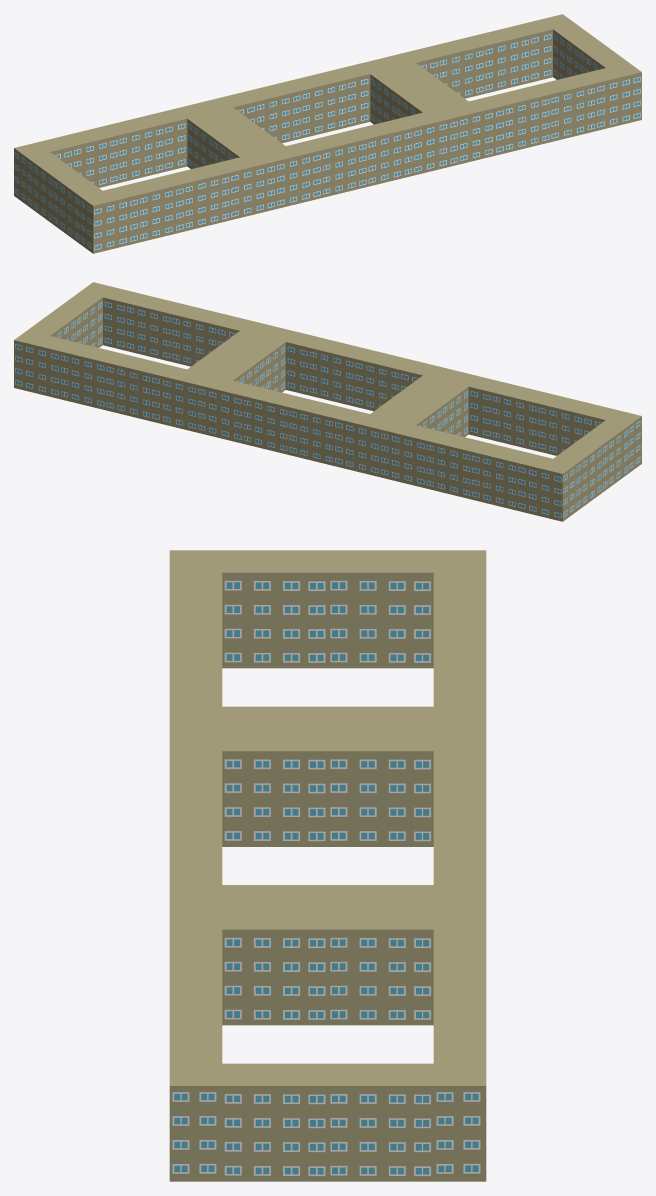
File: Buildings 1.fbx
The picture shows the model from 3 angles, top to bottom: view 1: azimuth 30°, elevation 25°; view 2: azimuth 150°, elevation 25°; view 3: azimuth 270°, elevation 25°; orthographic projection. The views are drawn at different scales.
Parts seen in each view (by area): view 1: pCube52; view 2: pCube52; view 3: pCube52.
Part boxes in pixels (x1,y1,x2,y2): pCube52: (14, 14, 641, 253); pCube52: (14, 282, 641, 521); pCube52: (169, 550, 486, 1181).
Bounding box in the file's own units: 12000 × 1000 × 3000.
1 material, 1 textured.
